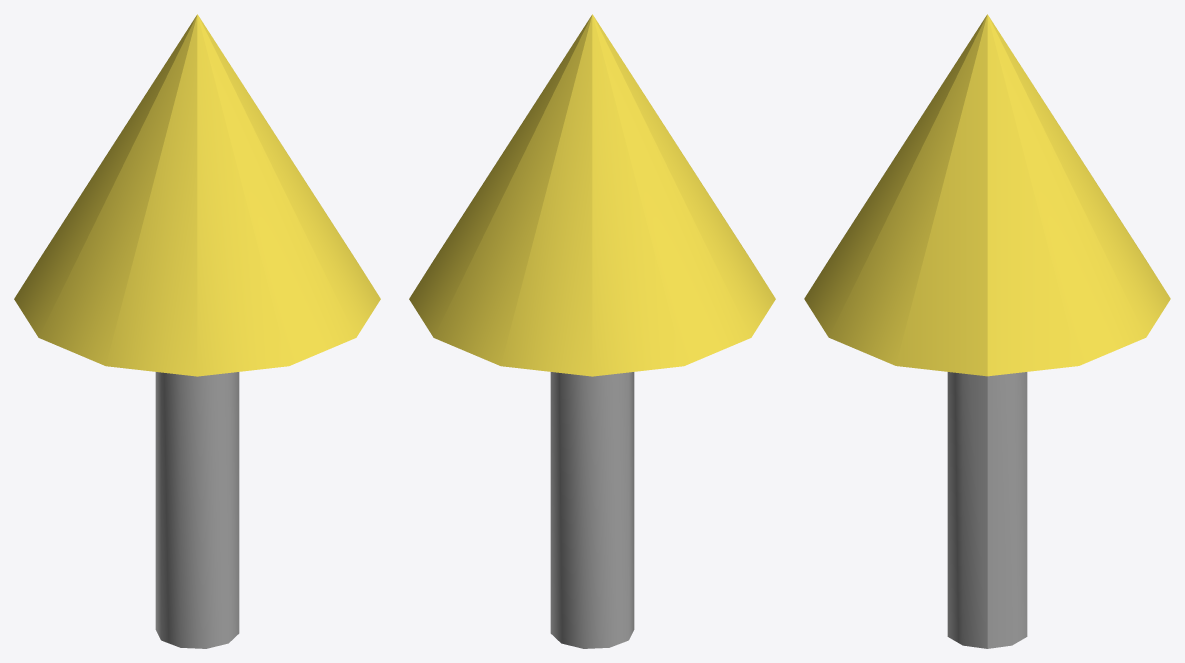
The model's file is light.glb.
3 views of the same model, side by side, from view 1: azimuth 30°, elevation 25°; view 2: azimuth 150°, elevation 25°; view 3: azimuth 270°, elevation 25° (orthographic).
Visible parts, largest first — view 1: models/light.glb_node_0, models/light.glb_node_1; view 2: models/light.glb_node_0, models/light.glb_node_1; view 3: models/light.glb_node_0, models/light.glb_node_1.
Part boxes in pixels (bbox=[...]): models/light.glb_node_0: bbox=[14, 14, 380, 376]; models/light.glb_node_1: bbox=[155, 372, 239, 648]; models/light.glb_node_0: bbox=[409, 14, 775, 376]; models/light.glb_node_1: bbox=[550, 372, 634, 648]; models/light.glb_node_0: bbox=[804, 14, 1170, 376]; models/light.glb_node_1: bbox=[947, 372, 1027, 648].
Size of the model in its own units: 0.7 by 1.3 by 0.7.
